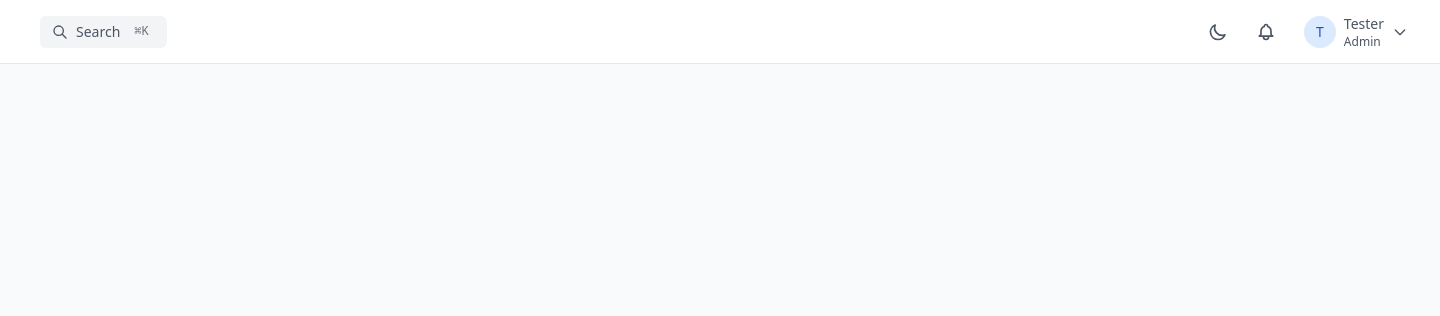
TopBar overlays - Notifications, Profile, and Search › opens Profile menu and dismisses with Escape
# Find profile trigger by accessible name (contains the user name)
Click the button "T Tester Admin".
click(1356, 32)  # box [1296,6,1416,58]
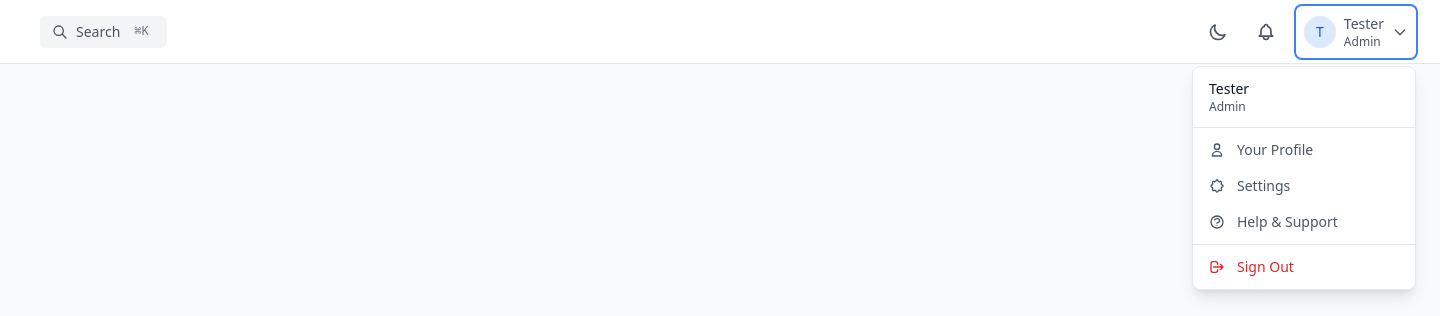
Result: the text "Your Profile" is shown at [1237,140,1313,160]
# Escape closes
Press Escape
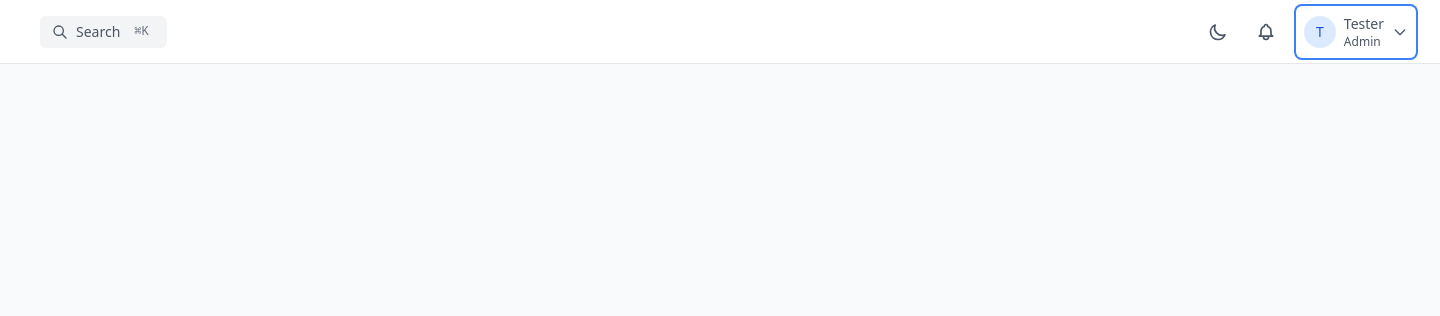
Result: the button "Your Profile" is gone
